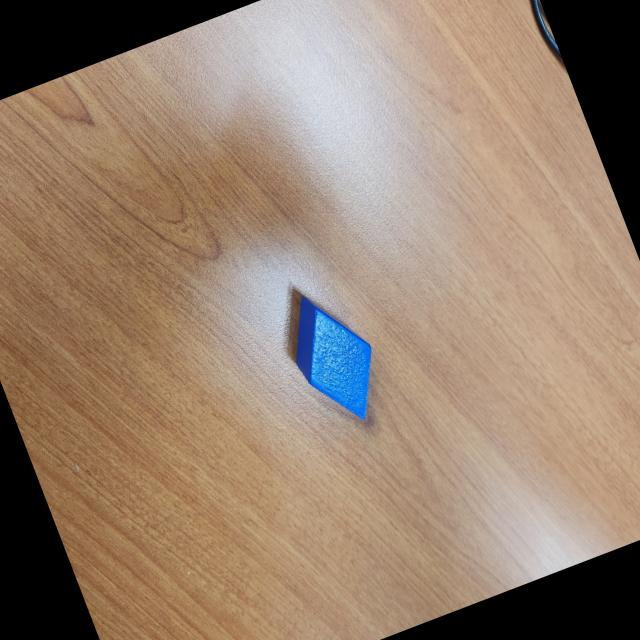blue: (275, 280, 396, 436)
